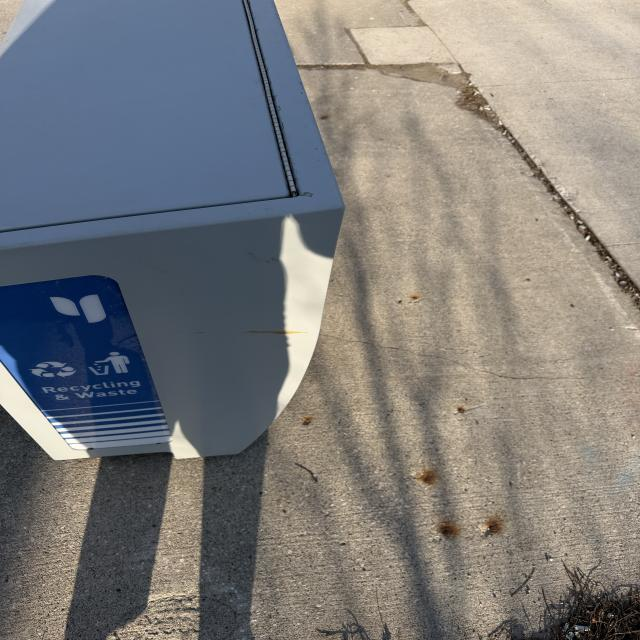Dustbin: (0, 2, 346, 464)
